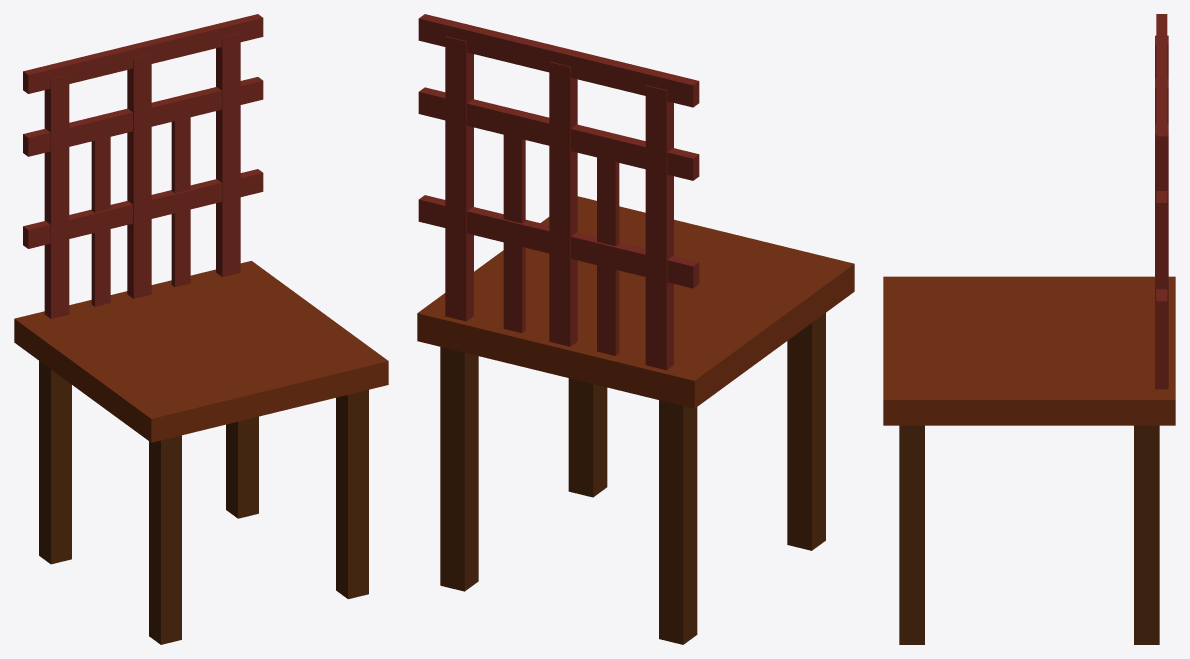
Rendered from chair.fbx.
3 renders of one model, left to right at view 1: azimuth 30°, elevation 25°; view 2: azimuth 150°, elevation 25°; view 3: azimuth 270°, elevation 25°, orthographic. The views are drawn at different scales.
Visible parts, largest first — view 1: ChairBottom, ChairLeg3, ChairLeg3.001, ChairLeg1, Cube.002, Cube, Cube.001, Cube.003, Cube.004, Cube.005, ChairLeg2, Cube.006 (+1 smaller); view 2: ChairBottom, ChairLeg1, ChairLeg2, ChairLeg3, Cube.002, Cube.001, Cube, Cube.003, Cube.004, Cube.005, ChairLeg3.001, Cube.006 (+1 smaller); view 3: ChairBottom, ChairLeg2, ChairLeg3.001, Cube.001, Cube.003.
Part boxes in pixels (x1,y1,x2,y2): ChairBottom: (14, 261, 388, 442); ChairLeg3: (149, 435, 181, 644); ChairLeg3.001: (336, 390, 368, 599); ChairLeg1: (39, 361, 71, 564); Cube.002: (44, 75, 69, 318); Cube: (127, 55, 151, 298); Cube.001: (216, 33, 240, 276); Cube.003: (23, 14, 263, 93); Cube.004: (23, 77, 263, 156); Cube.005: (23, 169, 263, 248); ChairLeg2: (226, 416, 258, 518); Cube.006: (171, 117, 190, 286); ChairBottom: (417, 196, 854, 408); ChairLeg1: (659, 400, 697, 644); ChairLeg2: (440, 347, 478, 591); ChairLeg3: (787, 313, 825, 550); Cube.002: (645, 85, 673, 370); Cube.001: (445, 36, 473, 321); Cube: (549, 61, 577, 346); Cube.003: (418, 14, 699, 107); Cube.004: (418, 87, 699, 180); Cube.005: (418, 195, 699, 288); ChairLeg3.001: (568, 378, 607, 497); Cube.006: (503, 135, 525, 332); ChairBottom: (883, 276, 1175, 425); ChairLeg2: (1134, 425, 1159, 644); ChairLeg3.001: (899, 425, 924, 644); Cube.001: (1155, 124, 1168, 389); Cube.003: (1156, 14, 1167, 156).
Bounding box in the file's own units: 85.97 × 166 × 85.04.
